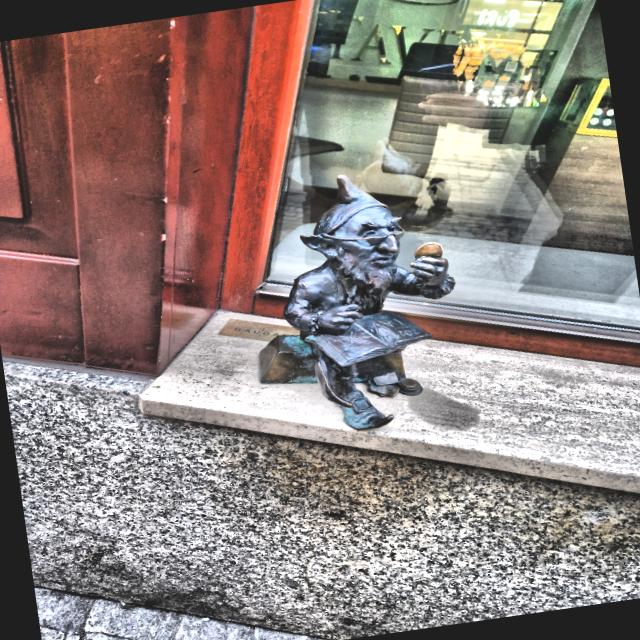Gaugan: (262, 176, 455, 431)
